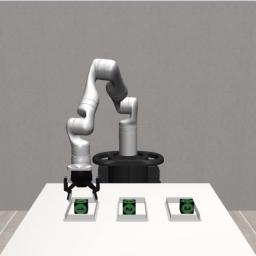cube1: (74, 199, 88, 214)
cube2: (123, 199, 135, 215)
cube3: (179, 198, 194, 214)
